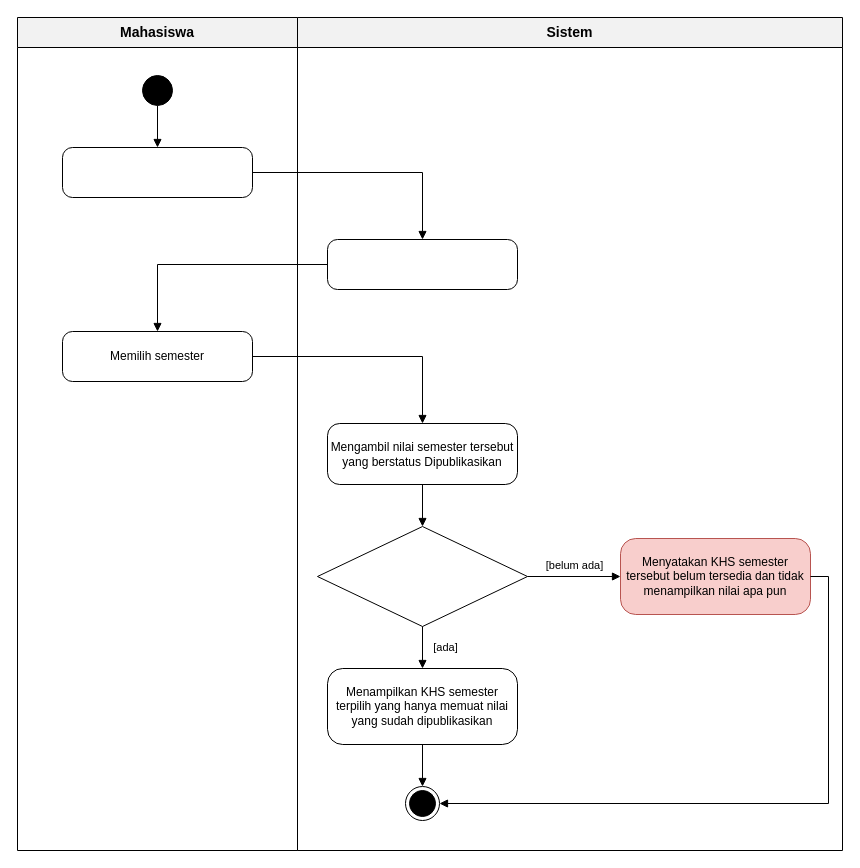
The diagram is 860 pixels wide and 868 high, and some of its shapes have lost their labels. Each missing label, with the centre of its shape:
"Membuka fungsi Lihat KHS" belongs at pixel 157 172.
"Menampilkan daftar semester" belongs at pixel 422 264.
"Semester memiliki nilai yang dipublikasikan?" belongs at pixel 422 576.
